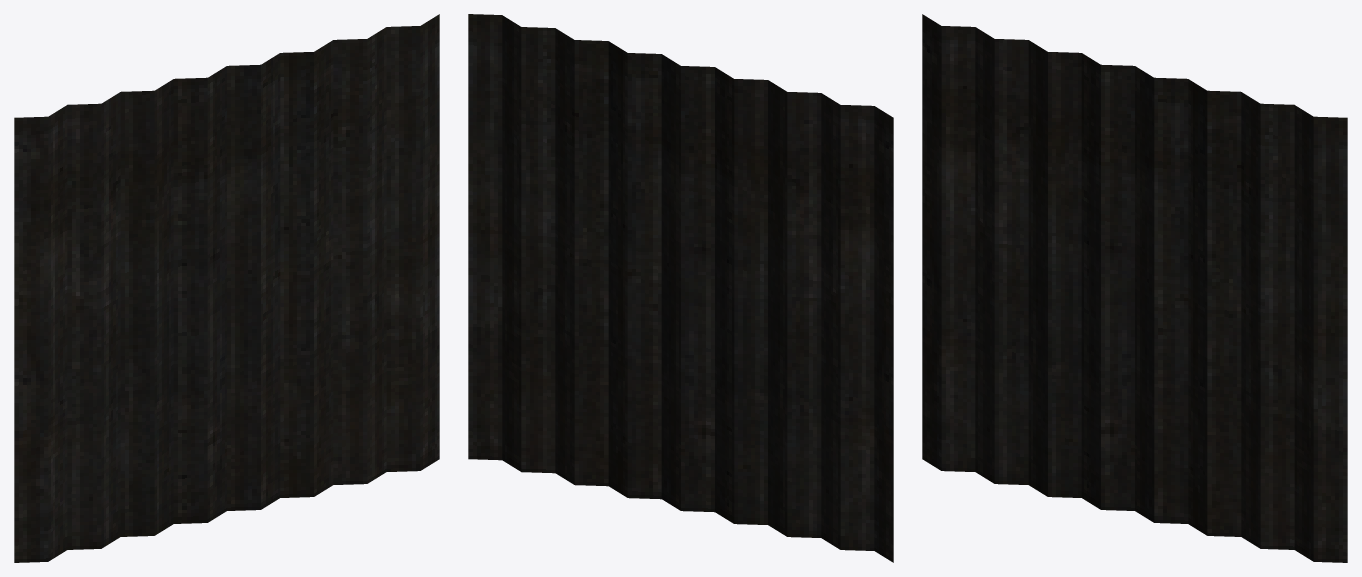
The model's file is wall_5.glb.
3 renders of one model, left to right at view 1: azimuth 30°, elevation 25°; view 2: azimuth 150°, elevation 25°; view 3: azimuth 330°, elevation 25°, orthographic.
Parts seen in each view (by area): view 1: wall_5; view 2: wall_5; view 3: wall_5.
Boxes of the visible parts, <box> form: wall_5: <box>14,14,439,562</box>; wall_5: <box>468,14,893,562</box>; wall_5: <box>922,14,1347,562</box>.
Bounding box in the file's own units: 2 × 2 × 0.06.
Materials: 1 (1 with a texture image).
